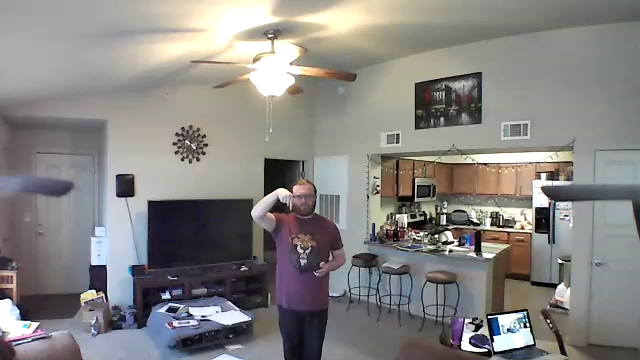down: (273, 181, 294, 214)
